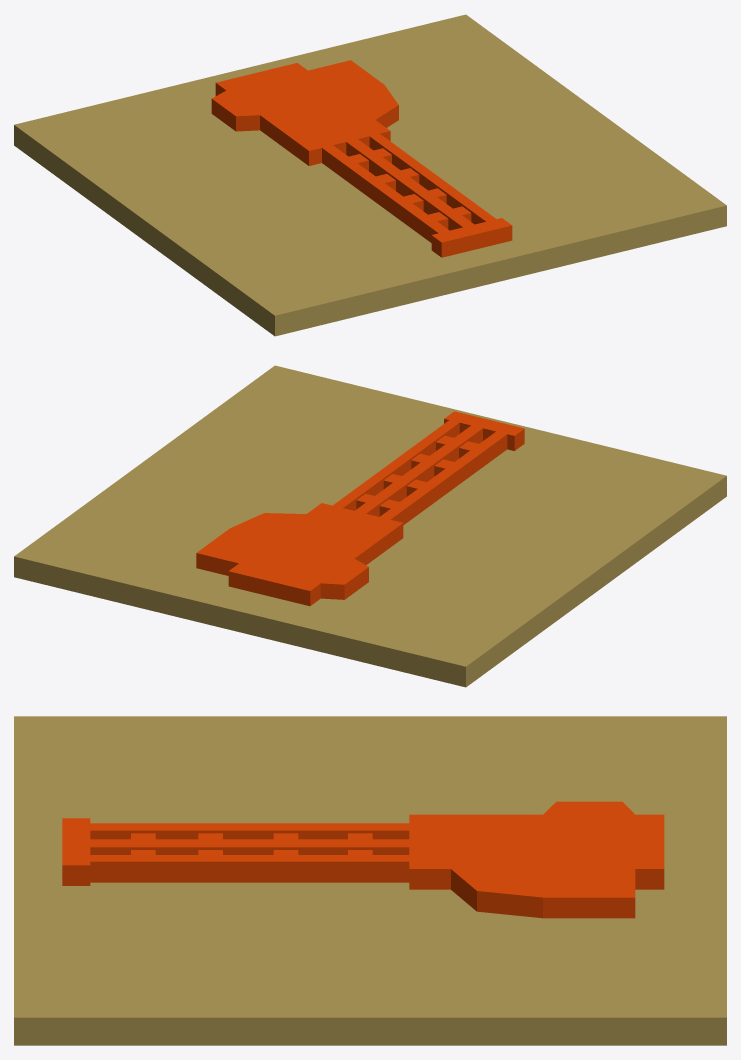
The model's file is PowerMachineGun.fbx.
3 renders of one model, top to bottom at view 1: azimuth 30°, elevation 25°; view 2: azimuth 150°, elevation 25°; view 3: azimuth 270°, elevation 25°, orthographic. The views are drawn at different scales.
Parts seen in each view (by area): view 1: Cube.024; view 2: Cube.024; view 3: Cube.024.
Boxes of the visible parts, x1=… form: Cube.024: x1=14, y1=14, x2=726, y2=336; Cube.024: x1=14, y1=365, x2=726, y2=687; Cube.024: x1=14, y1=716, x2=726, y2=1045.
Bounding box in the file's own units: 611 × 46.42 × 611.
